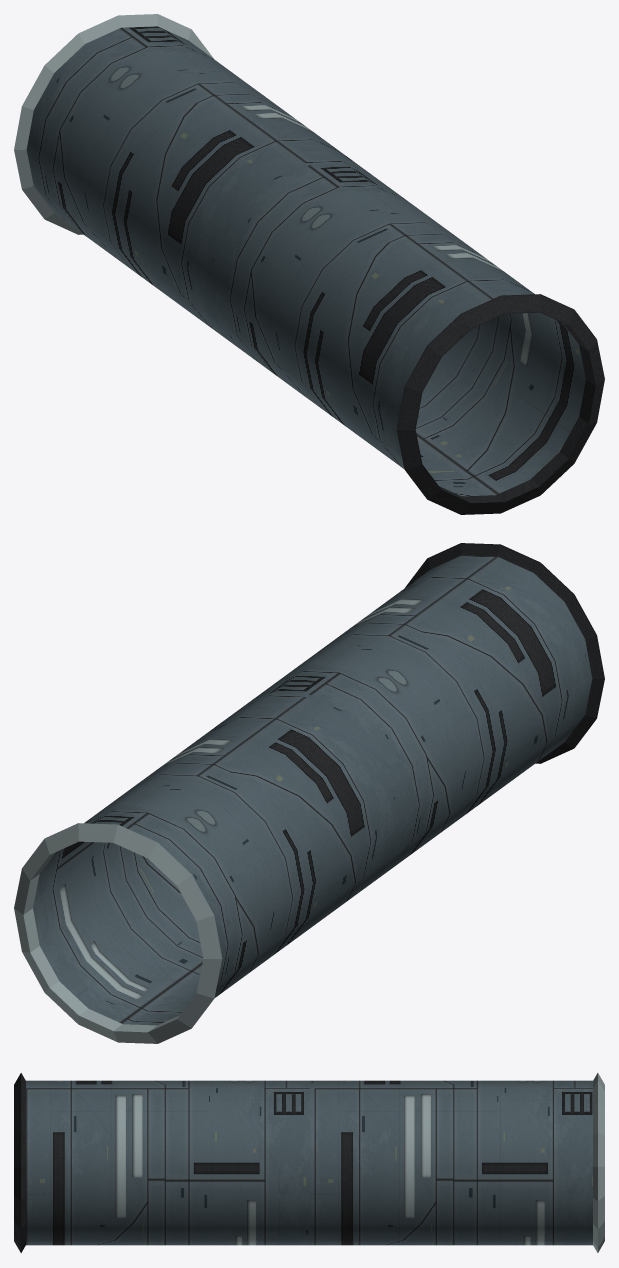
File: hallway_straight.obj
3 renders of one model, top to bottom at view 1: azimuth 30°, elevation 25°; view 2: azimuth 150°, elevation 25°; view 3: azimuth 270°, elevation 25°, orthographic. The views are drawn at different scales.
Parts seen in each view (by area): view 1: Torus.001; view 2: Torus.001; view 3: Torus.001.
Part boxes in pixels (x1,y1,x2,y2): Torus.001: (14, 14, 604, 514); Torus.001: (14, 543, 604, 1043); Torus.001: (14, 1073, 604, 1252).
Bounding box in the file's own units: 2.2 × 2.2 × 7.17.
1 material, 1 textured.
